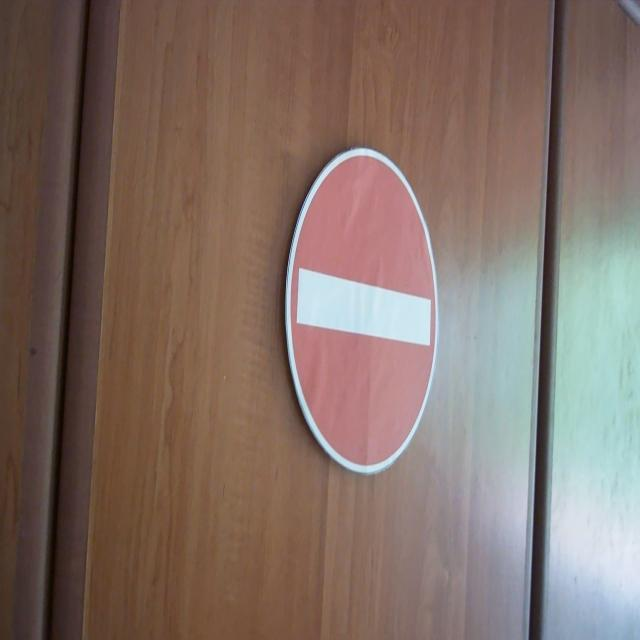no_entry: (283, 144, 441, 477)
